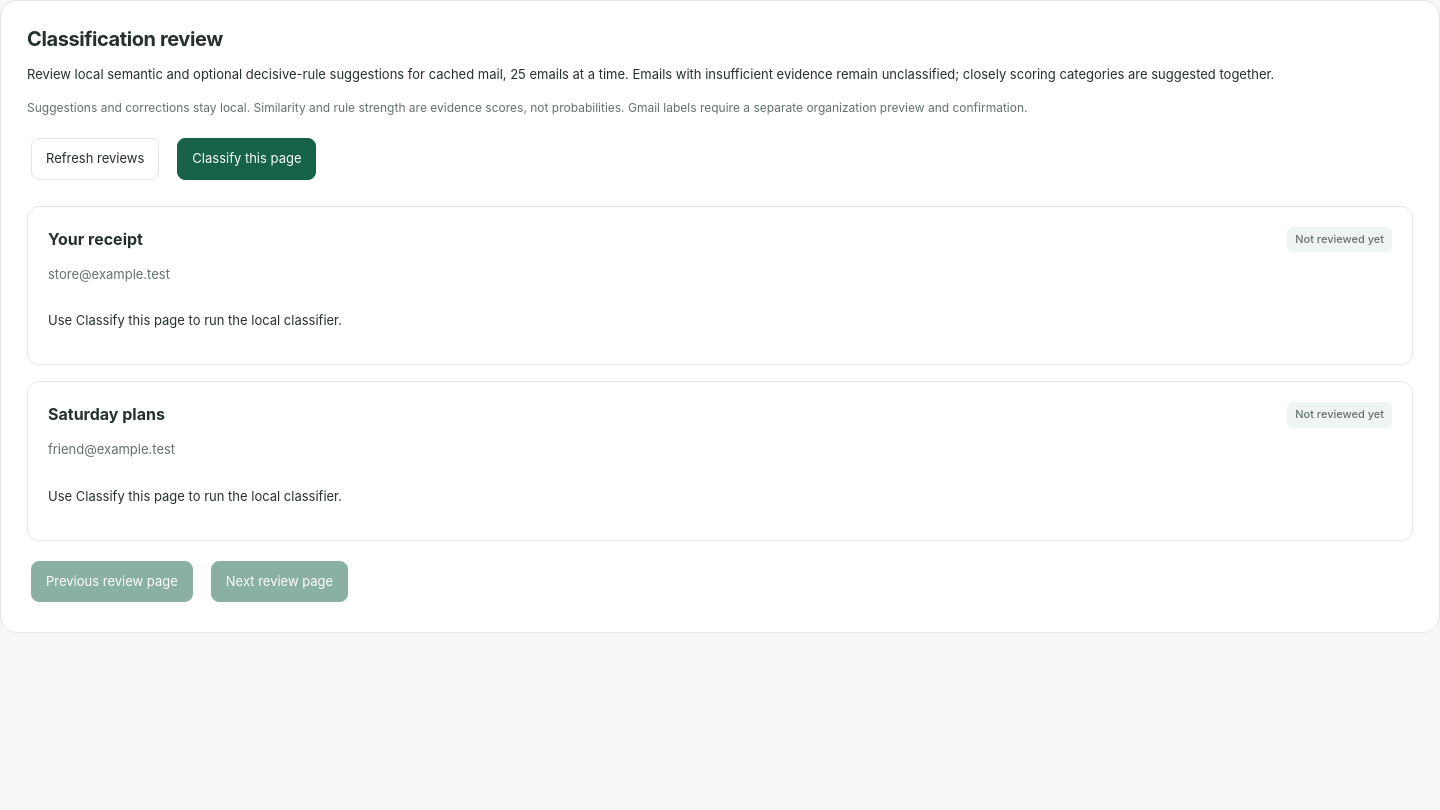
Test: shows partial failure counts and preserves successful suggestions
Expected: the heading "Your receipt" is shown, [48,229,143,249]
Click the button "Classify this page": {"x": 247, "y": 159} [177,138,316,180]
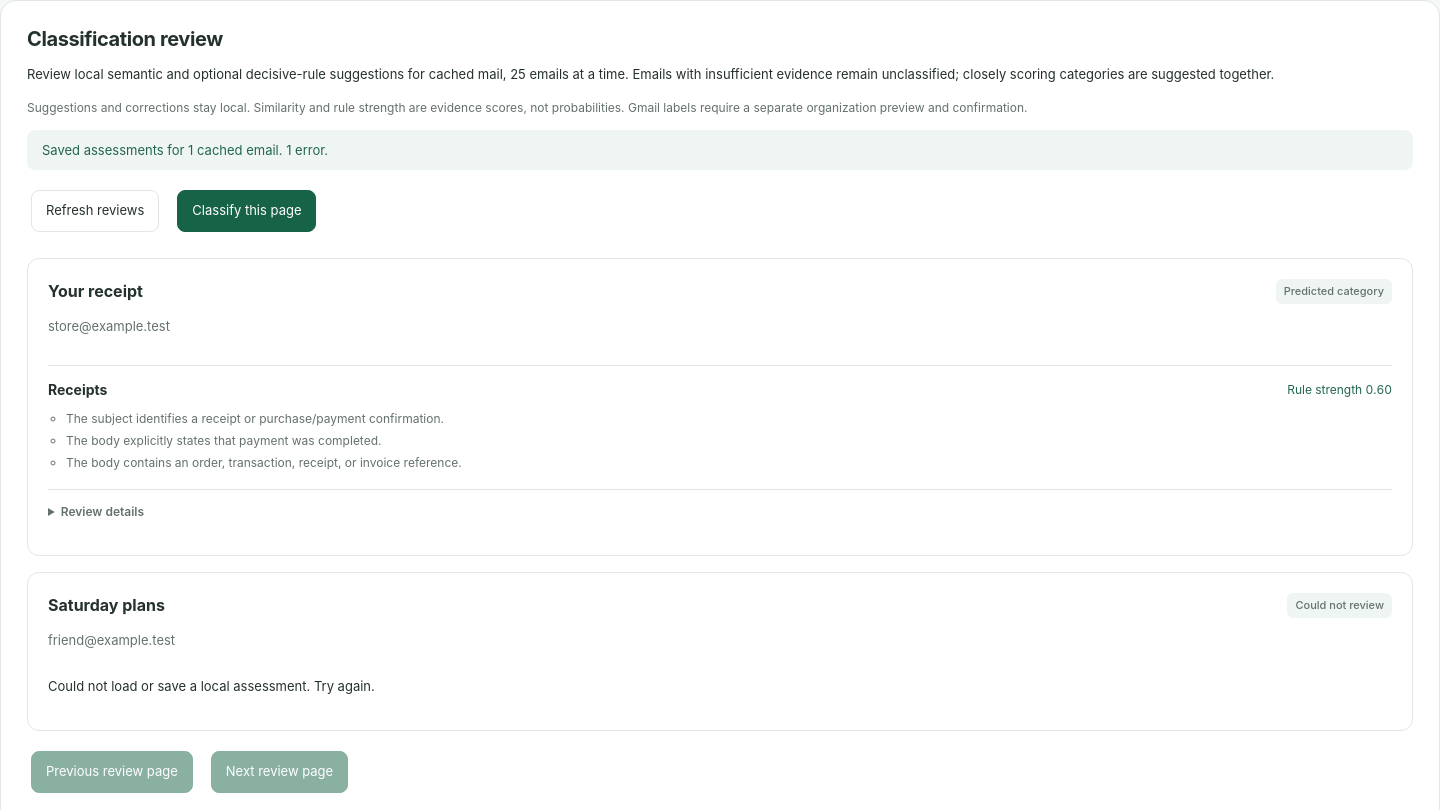
Expected: the text "Rule strength 0.60" is shown, [1287,382,1392,397]
Expected: the message shows "1 cached email. 1 error.", [42,142,328,158]
Expected: the text "Could not load or save a local assessment. Try again." is shown, [48,678,375,694]
